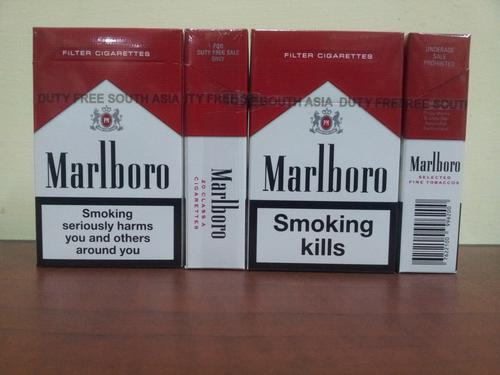marlboro: (250, 35, 402, 269), (35, 30, 184, 268)
